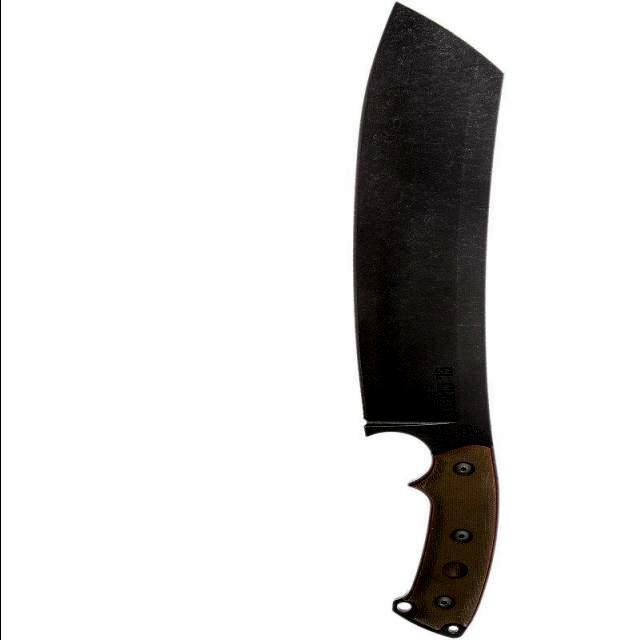long knife: (304, 4, 524, 628)
